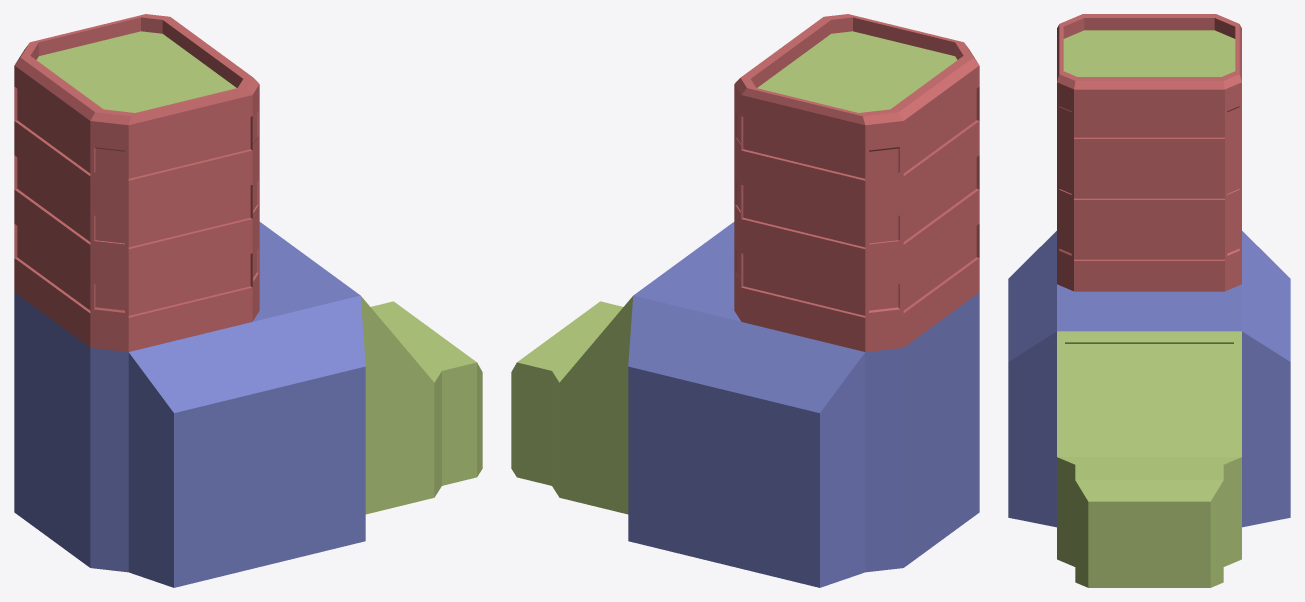
3 renders of one model, left to right at view 1: azimuth 30°, elevation 25°; view 2: azimuth 150°, elevation 25°; view 3: azimuth 270°, elevation 25°, orthographic. The views are drawn at different scales.
Visible parts, largest first — view 1: Cube; view 2: Cube; view 3: Cube.
Boxes of the visible parts, <box> form: Cube: <box>14,14,482,587</box>; Cube: <box>511,14,979,587</box>; Cube: <box>1008,14,1290,587</box>.
Size of the model in its own units: 12.47 by 8.65 by 13.67.
